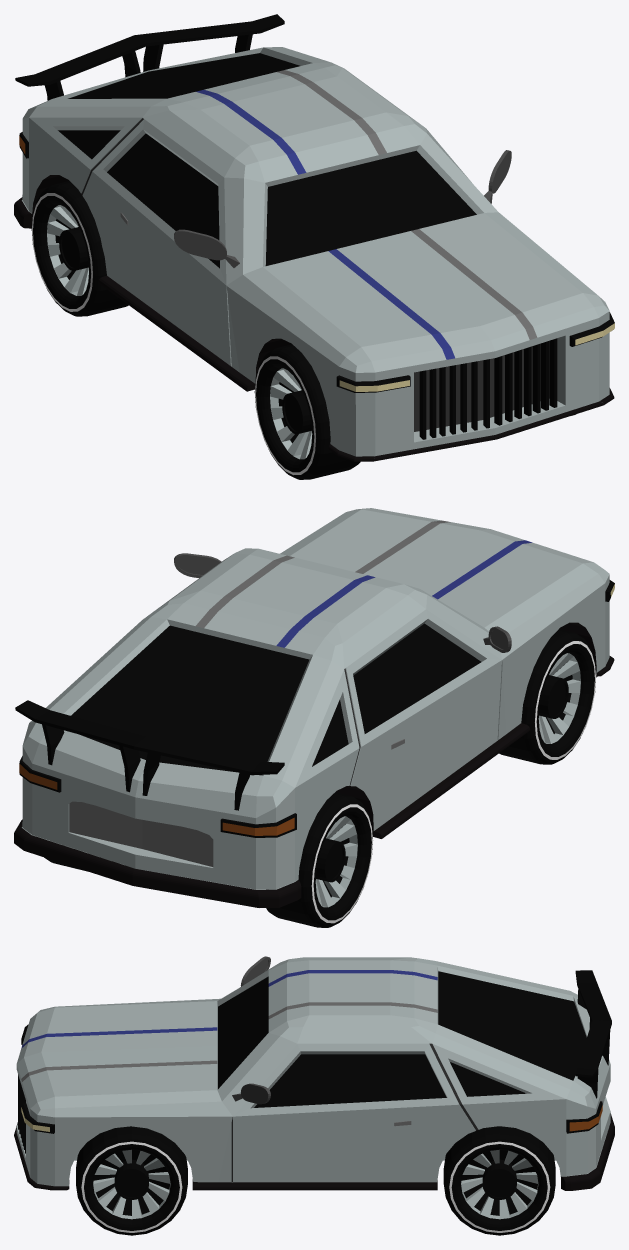
The model's file is auto.glb.
3 renders of one model, top to bottom at view 1: azimuth 30°, elevation 25°; view 2: azimuth 150°, elevation 25°; view 3: azimuth 270°, elevation 25°, orthographic. The views are drawn at different scales.
Visible parts, largest first — view 1: Cube.019_0; view 2: Cube.019_0; view 3: Cube.019_0.
Part boxes in pixels (x1,y1,x2,y2): Cube.019_0: (14,14,614,479); Cube.019_0: (14,508,614,927); Cube.019_0: (14,956,614,1235).
Size of the model in its own units: 2.04 by 1.36 by 3.81.
